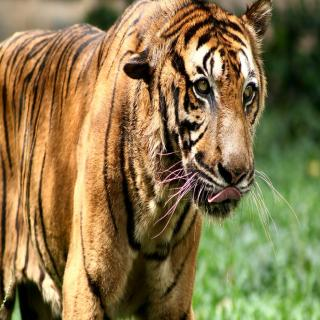Tiger: (0, 0, 300, 320)
